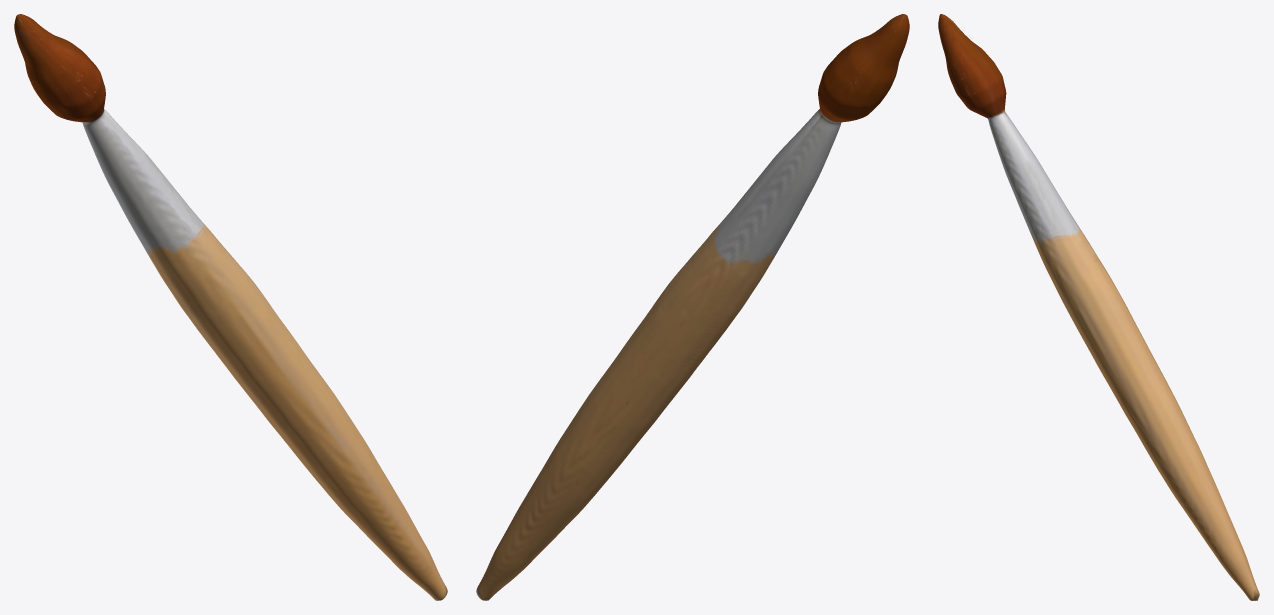
The model's file is Toony_Paintbrush_2_1019163002.fbx.
3 renders of one model, left to right at view 1: azimuth 30°, elevation 25°; view 2: azimuth 150°, elevation 25°; view 3: azimuth 330°, elevation 25°, orthographic. The views are drawn at different scales.
Visible parts, largest first — view 1: Mesh_0; view 2: Mesh_0; view 3: Mesh_0.
Boxes of the visible parts, x1,y1,x2,y2 form: Mesh_0: (14, 14, 447, 600); Mesh_0: (476, 14, 909, 600); Mesh_0: (938, 14, 1259, 600).
Size of the model in its own units: 130 by 199 by 19.07.
1 material, 1 textured.
